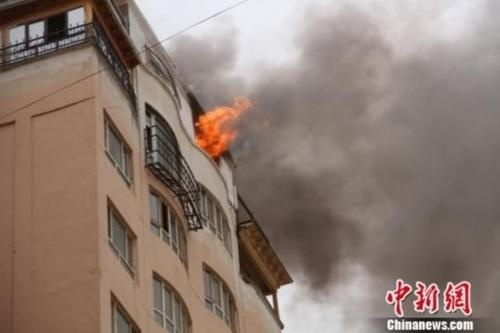fire: (192, 94, 254, 156)
